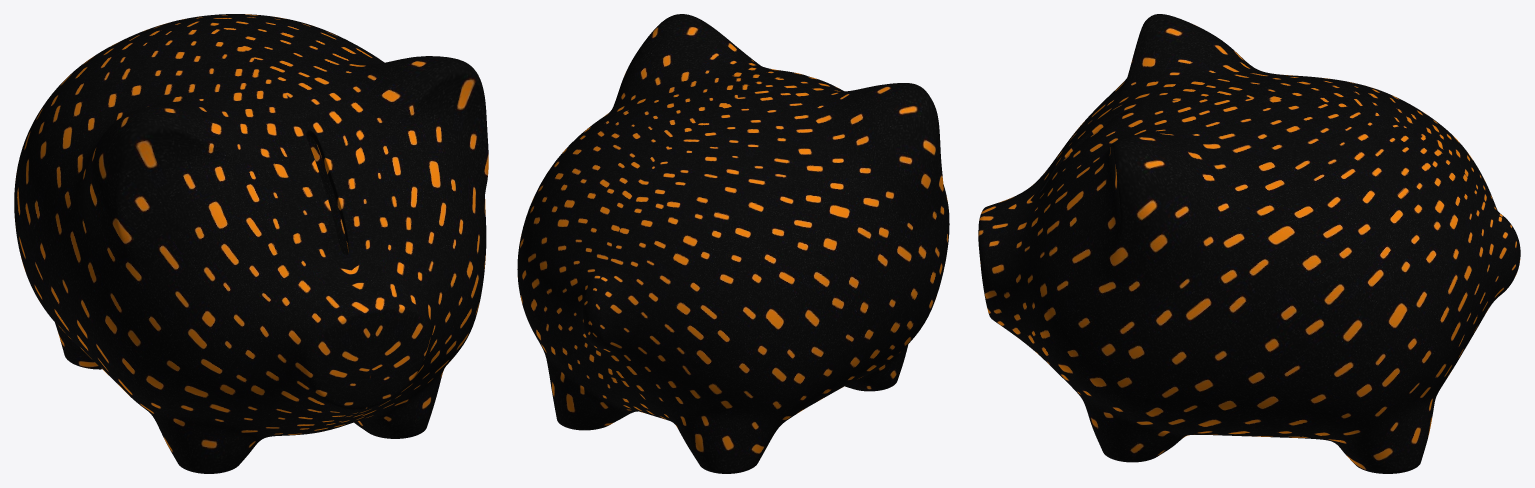
3 renders of one model, left to right at view 1: azimuth 30°, elevation 25°; view 2: azimuth 150°, elevation 25°; view 3: azimuth 270°, elevation 25°, orthographic. The views are drawn at different scales.
Visible parts, largest first — view 1: PiggyBank - 07; view 2: PiggyBank - 07; view 3: PiggyBank - 07.
Boxes of the visible parts, bbox=[...] form: PiggyBank - 07: bbox=[14, 14, 488, 473]; PiggyBank - 07: bbox=[517, 14, 949, 473]; PiggyBank - 07: bbox=[978, 14, 1520, 473].
Size of the model in its own units: 0.0203 by 0.0181 by 0.027.
Materials: 1 (1 with a texture image).
